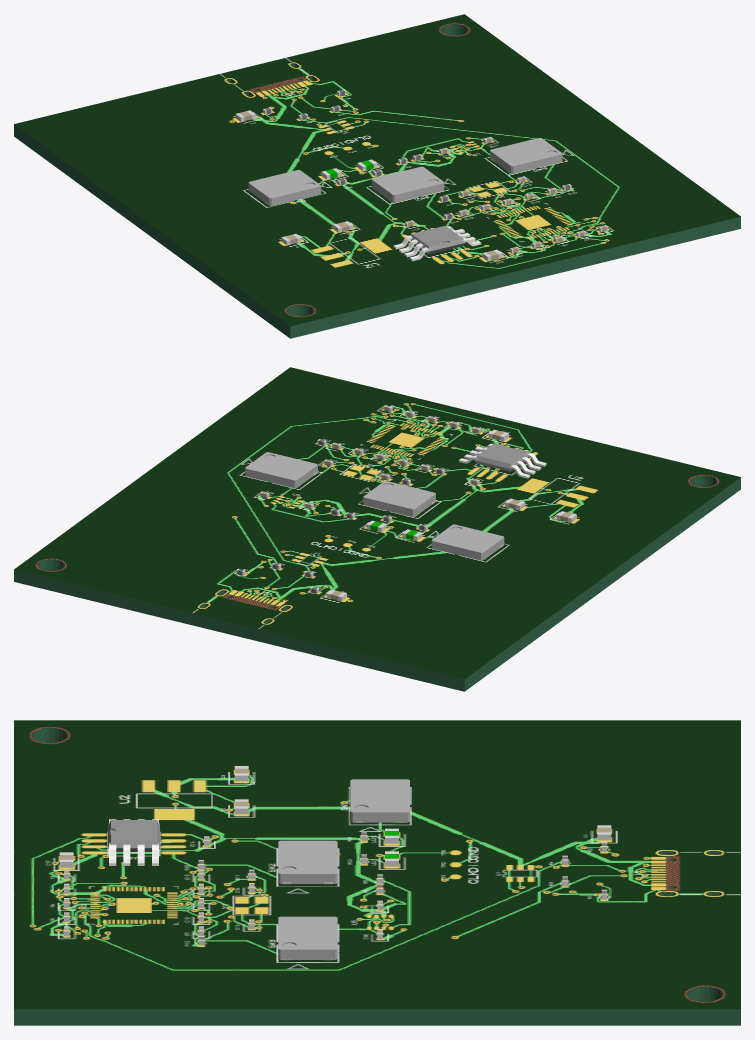
3 renders of one model, top to bottom at view 1: azimuth 30°, elevation 25°; view 2: azimuth 150°, elevation 25°; view 3: azimuth 270°, elevation 25°, orthographic. The views are drawn at different scales.
Visible parts, largest first — view 1: Box0, SW1, SW2, SW3, U4; view 2: Box0, SW1, SW3, SW2, U4; view 3: Box0, SW2, SW3, SW1, U4.
Boxes of the visible parts, x1,y1,x2,y2 form: Box0: (14, 14, 740, 338); SW1: (248, 170, 321, 205); SW2: (372, 166, 444, 202); SW3: (490, 138, 562, 173); U4: (393, 225, 481, 261); Box0: (14, 367, 740, 691); SW1: (431, 524, 504, 560); SW3: (245, 452, 317, 488); SW2: (363, 481, 435, 516); U4: (459, 443, 546, 478); Box0: (14, 720, 740, 1025); SW2: (278, 840, 337, 883); SW3: (278, 916, 337, 959); SW1: (350, 779, 409, 822); U4: (108, 819, 159, 865).
Bounding box in the file's own units: 61 × 2.88 × 64.8.
Materials: 10 (2 with a texture image).
